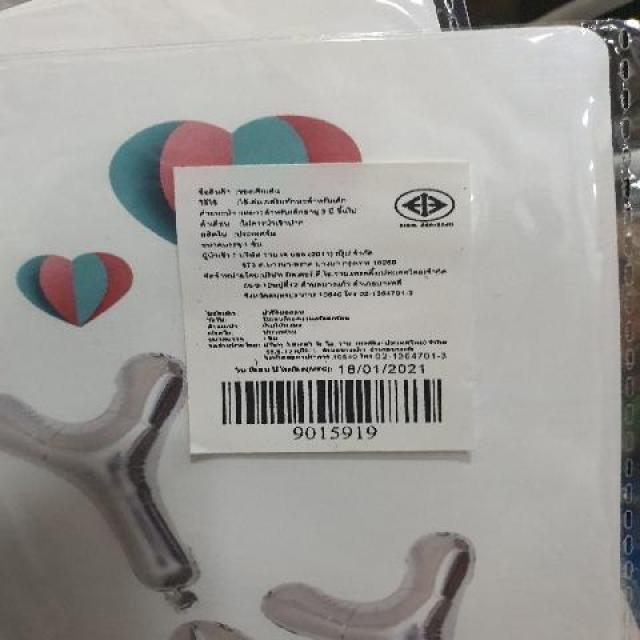Barcode: (208, 374, 460, 439)
